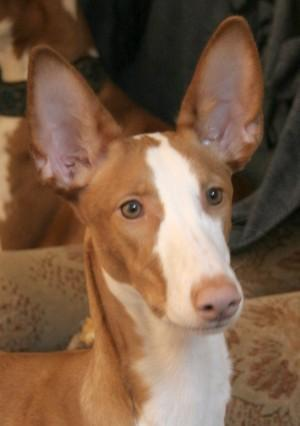Ibizan_hound: (0, 12, 267, 424)
